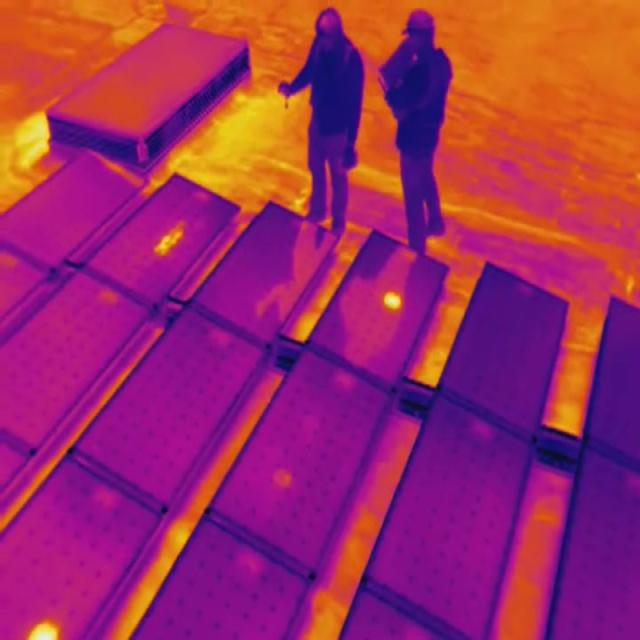Orange-Spots: (153, 217, 185, 256), (26, 618, 64, 640), (382, 286, 402, 313), (272, 464, 292, 490)
